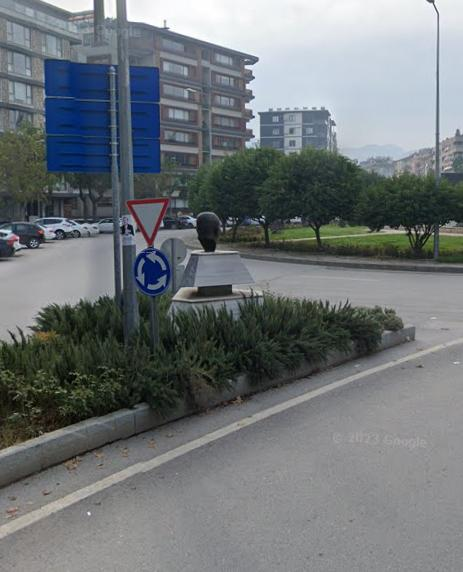crossroads: (134, 251, 168, 292)
